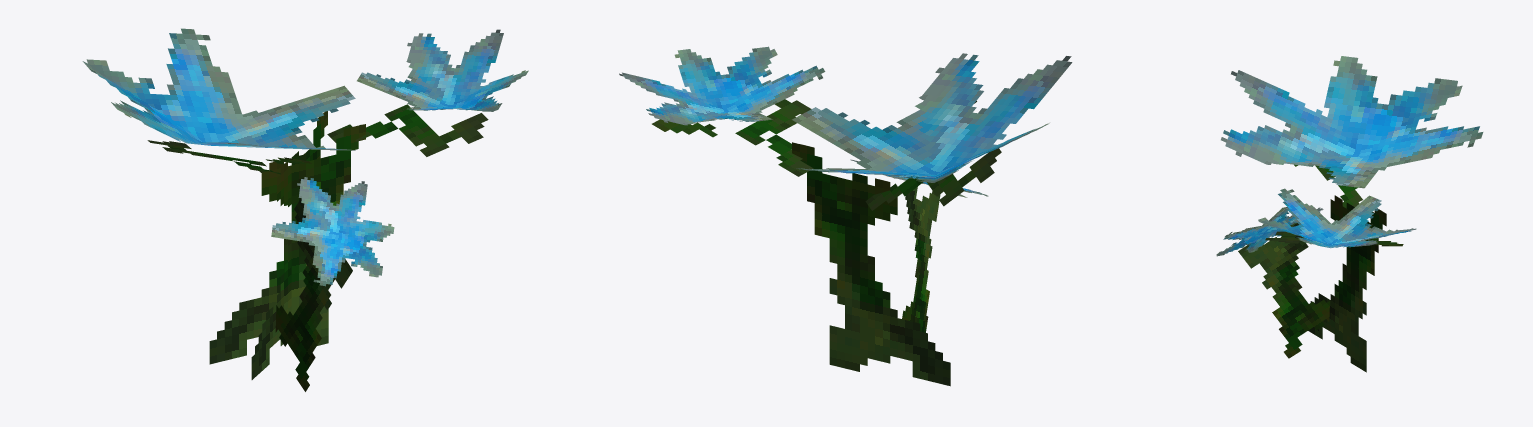
File: flower_7.fbx
The picture shows the model from 3 angles, left to right: view 1: azimuth 30°, elevation 25°; view 2: azimuth 150°, elevation 25°; view 3: azimuth 270°, elevation 25°; orthographic projection. The views are drawn at different scales.
Parts seen in each view (by area): view 1: flower7; view 2: flower7; view 3: flower7.
Boxes of the visible parts, box(x1,y1,x2,y2) form: flower7: box(82, 28, 528, 391); flower7: box(619, 46, 1072, 386); flower7: box(1216, 56, 1483, 372).
Size of the model in its own units: 66.22 by 42.4 by 46.5.
